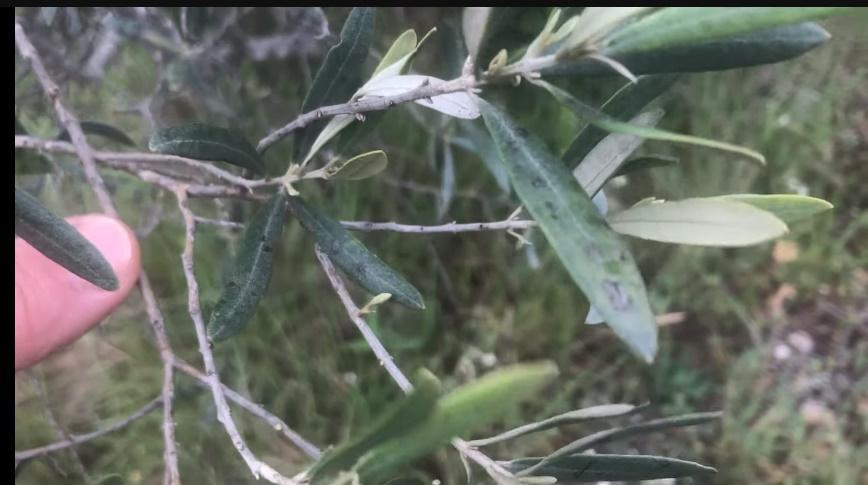OlivePeacockSpot: (476, 95, 663, 364), (310, 210, 425, 312), (16, 196, 116, 292)
